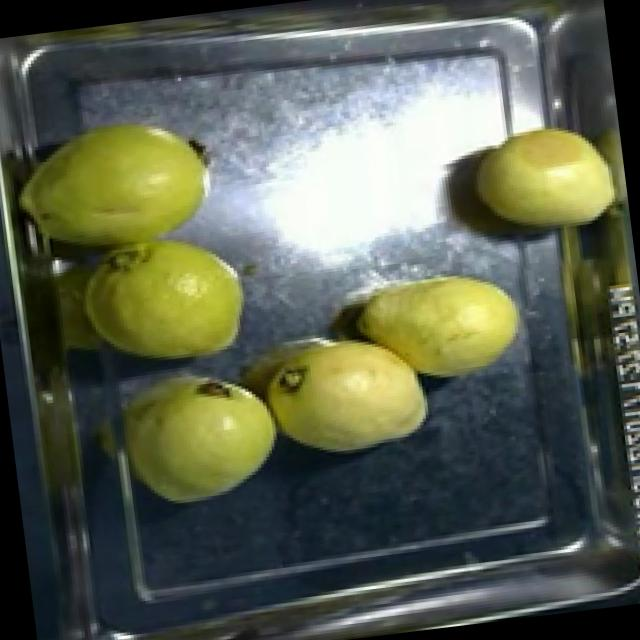Fruit: (0, 97, 234, 277), (71, 212, 267, 384), (248, 310, 442, 472), (106, 351, 294, 518), (340, 253, 536, 396), (451, 104, 632, 258)
